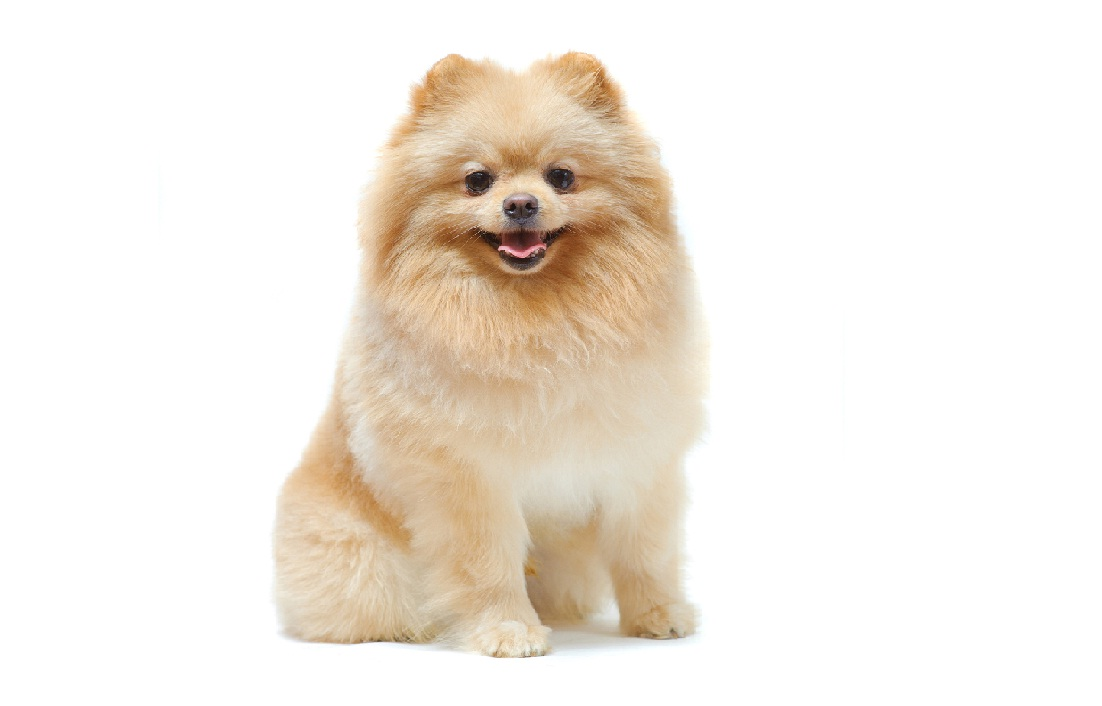pomeranian: (281, 28, 715, 654)
